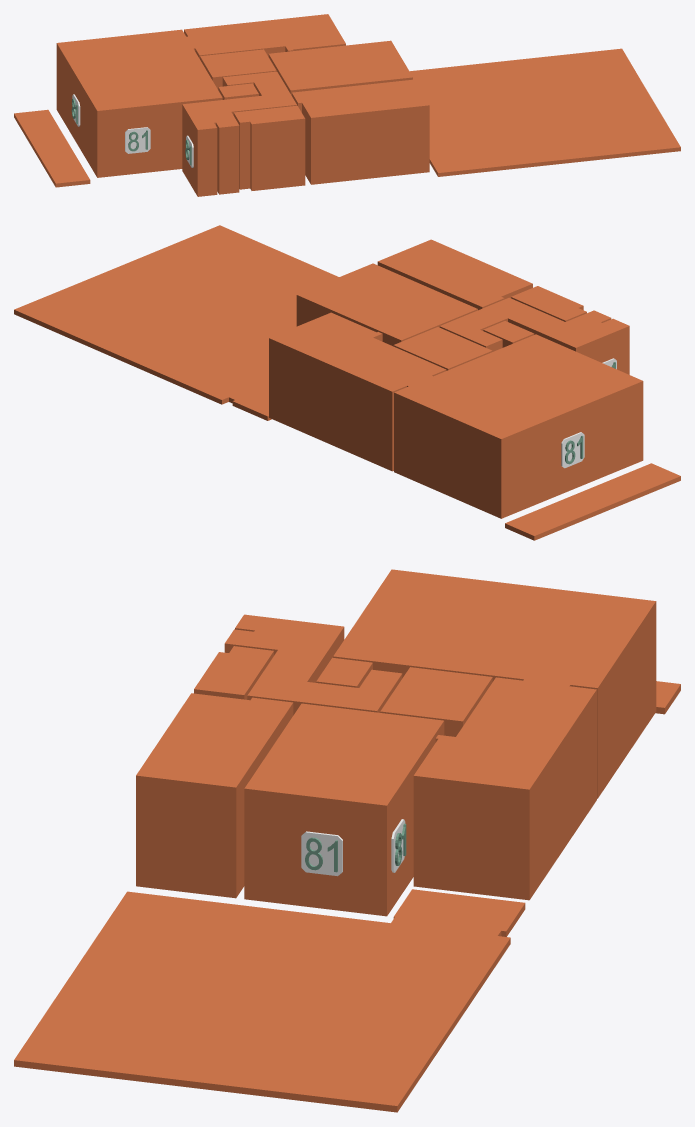
The picture shows the model from 3 angles, top to bottom: view 1: azimuth 30°, elevation 25°; view 2: azimuth 150°, elevation 25°; view 3: azimuth 270°, elevation 25°; orthographic projection. The views are drawn at different scales.
Parts seen in each view (by area): view 1: g_9, g_1, g_7, g_4, g_5, g_6, g_0, g_8, g_2, g_3, g_21; view 2: g_1, g_9, g_0, g_6, g_4, g_7, g_8, g_2, g_5, g_3, g_24; view 3: g_9, g_1, g_0, g_6, g_7, g_4, g_2, g_5, g_18, g_3.
Part boxes in pixels (x1,y1,x2,y2): g_9: (409,48,680,176); g_1: (56,29,222,177); g_7: (291,79,429,184); g_4: (182,71,296,196); g_5: (233,105,305,190); g_6: (268,40,412,95); g_0: (184,14,345,58); g_8: (14,109,90,187); g_2: (200,49,276,89); g_3: (218,83,258,99); g_21: (125,127,150,153); g_1: (394,334,643,518); g_9: (14,225,338,420); g_0: (269,312,446,471); g_6: (296,263,477,346); g_4: (439,297,629,374); g_7: (377,239,532,310); g_8: (505,463,680,540); g_2: (393,327,492,370); g_5: (511,286,586,321); g_3: (483,321,534,347); g_24: (561,432,584,468); g_9: (14,889,525,1112); g_1: (333,569,656,798); g_0: (413,677,596,900); g_6: (244,703,444,916); g_7: (136,693,293,898); g_4: (224,614,402,715); g_2: (380,667,492,736); g_5: (194,646,273,699); g_18: (301,831,342,876); g_3: (316,657,372,687).
Bounding box in the file's own units: 22.68 × 2.74 × 14.06.
